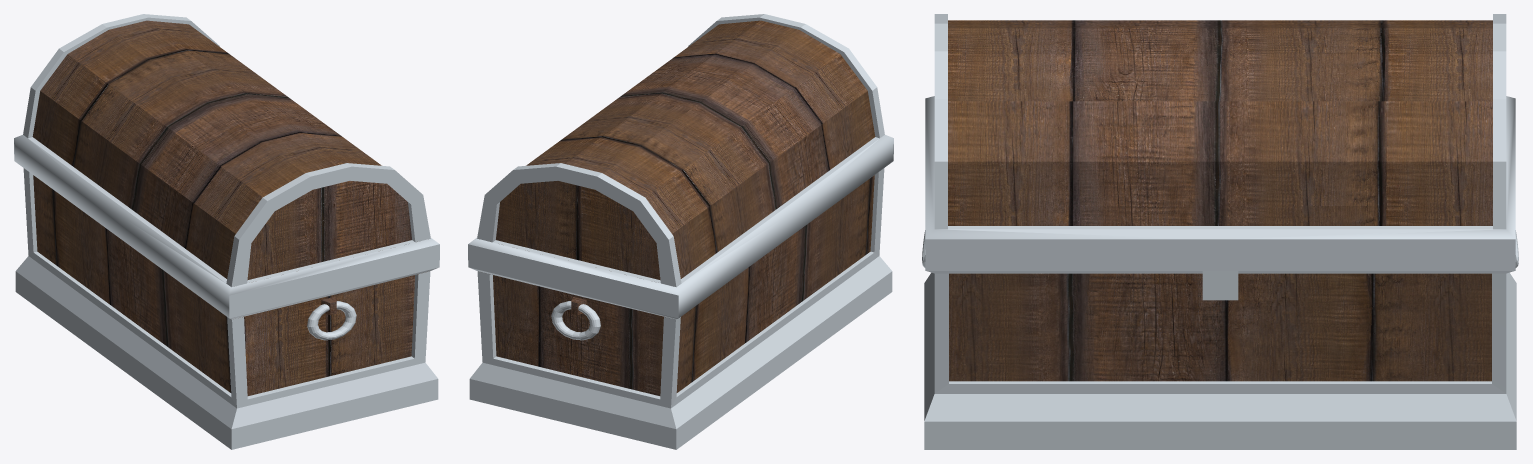
Rendered from Chest.glb.
3 renders of one model, left to right at view 1: azimuth 30°, elevation 25°; view 2: azimuth 150°, elevation 25°; view 3: azimuth 270°, elevation 25°, orthographic. The views are drawn at different scales.
Visible parts, largest first — view 1: Chest; view 2: Chest; view 3: Chest.
Boxes of the visible parts, x1,y1,x2,y2 form: Chest: (14,14,439,449); Chest: (468,14,893,449); Chest: (922,14,1518,449).
Size of the model in its own units: 0.9 by 1.02 by 1.61.
2 materials, 1 textured.
